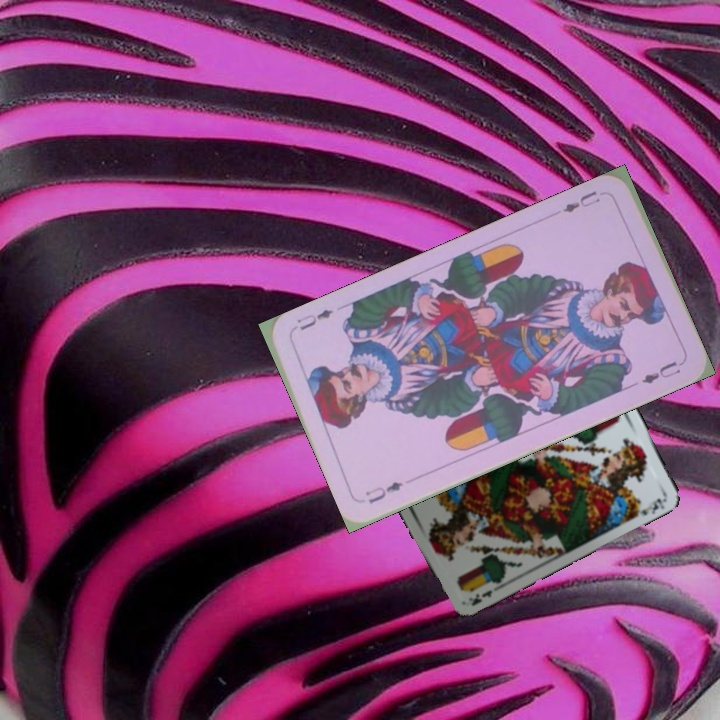EK: (465, 586, 495, 609)
EU: (361, 477, 405, 506), (559, 187, 603, 215)
